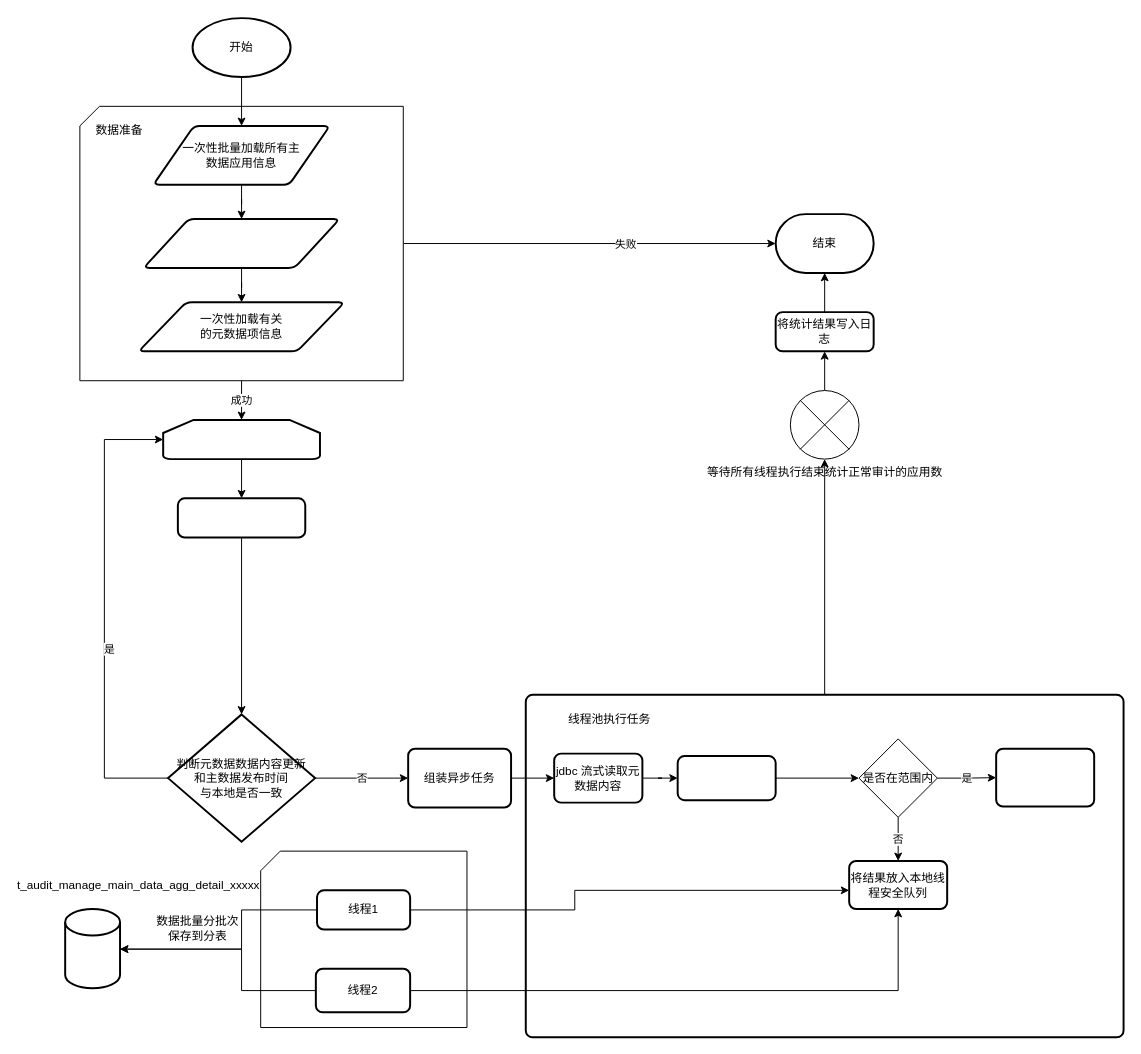
This 1141x1054 diagram has some shape labels left out. The box of each missing label's shape, as (x1, y1, x2, y2) in pixels:
foreach(主数据应用信息）: (162, 418, 320, 460)
一次性批量加载有关的 主数据项信息: (142, 218, 340, 269)
布隆过滤器 逐条对比数据内容与主数据内容: (676, 755, 776, 801)
忽略: (995, 747, 1095, 807)
数据库: (64, 907, 121, 989)
组装参数: (176, 497, 306, 538)
